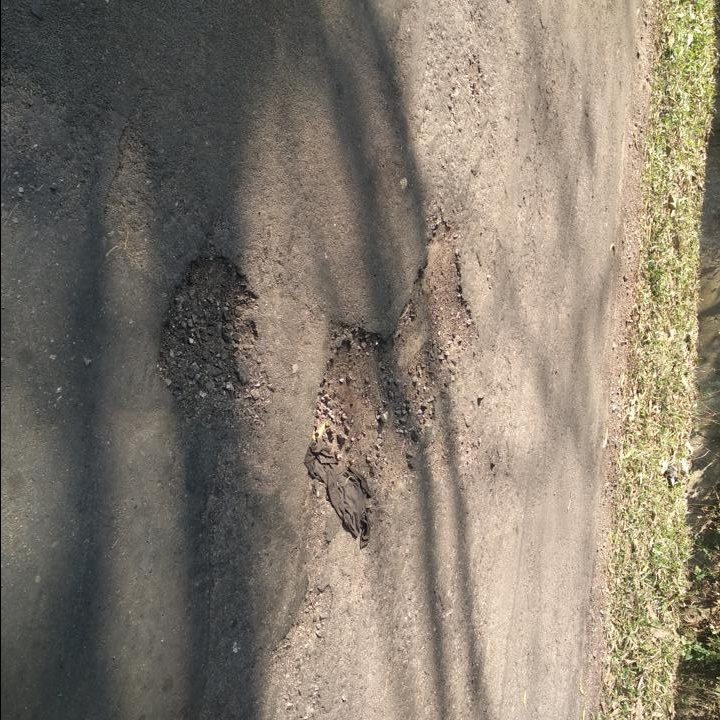pothole: (309, 215, 484, 520), (154, 248, 266, 426)
